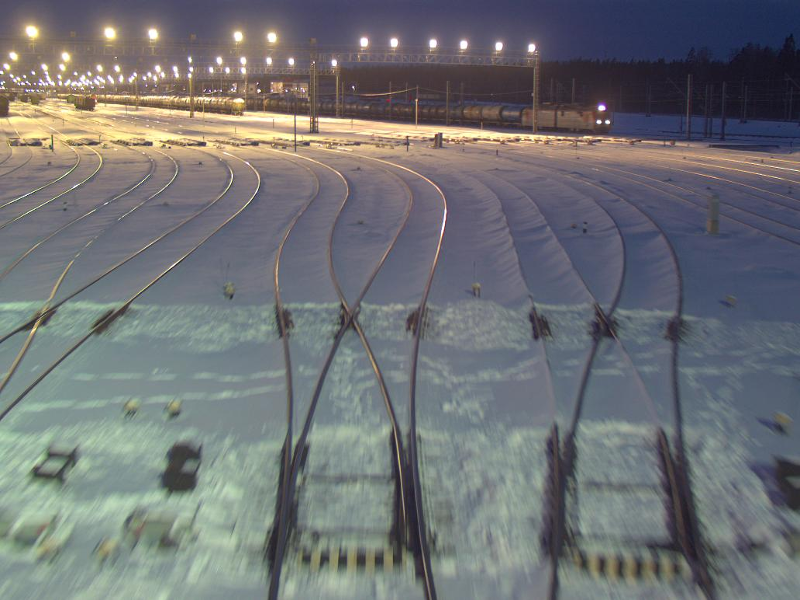right: (538, 313, 712, 564), (284, 303, 429, 551)
